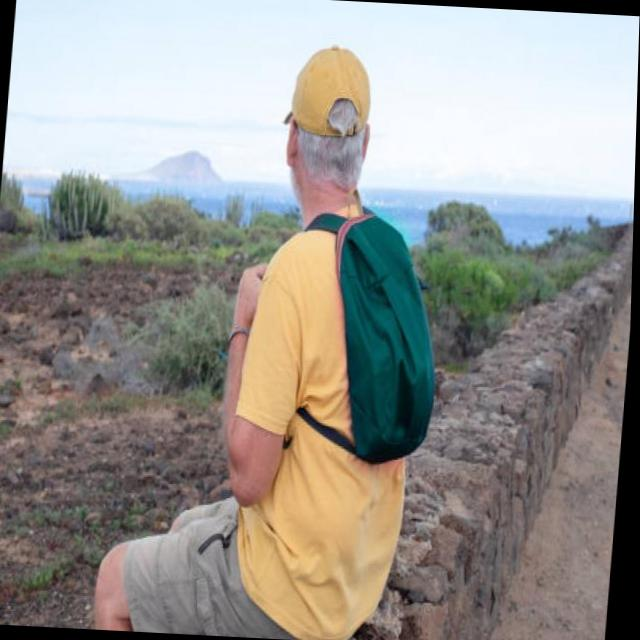no helmet: (264, 30, 389, 222)
